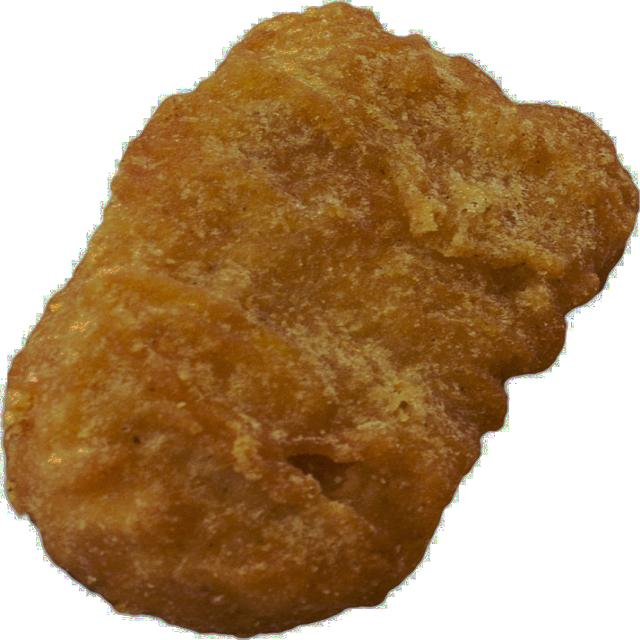chicken_nuggets: (5, 3, 623, 640)
